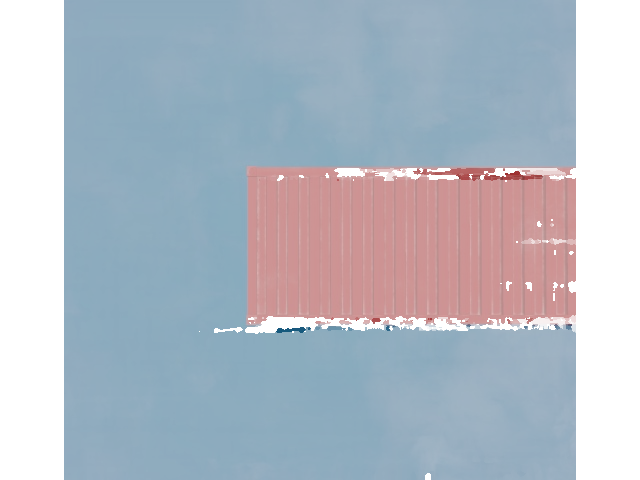container5: (245, 164, 640, 327)
